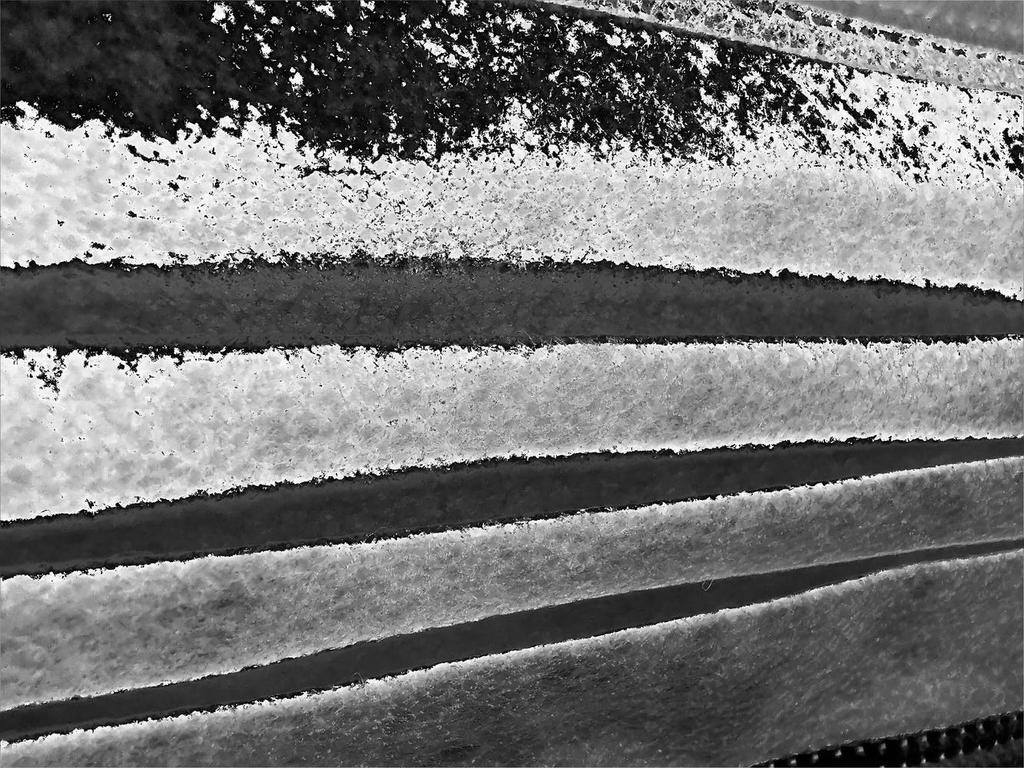High GSM: (1, 1, 1024, 767)
